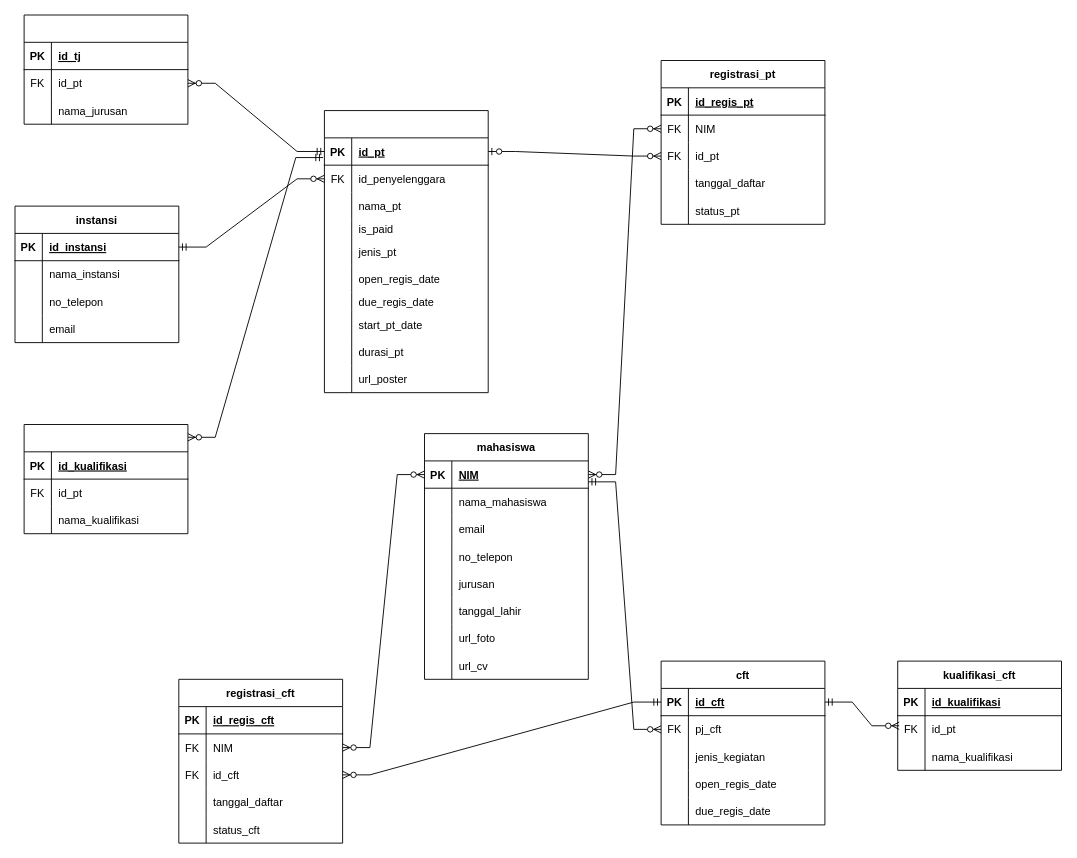
This 1077x858 diagram has some shape labels left out. The box of each missing label's shape, as (x1, y1, x2, y2) in pixels:
kualifikasi_pt: (23, 424, 188, 534)
pt: (324, 110, 488, 393)
target_jurusan: (23, 14, 188, 124)
